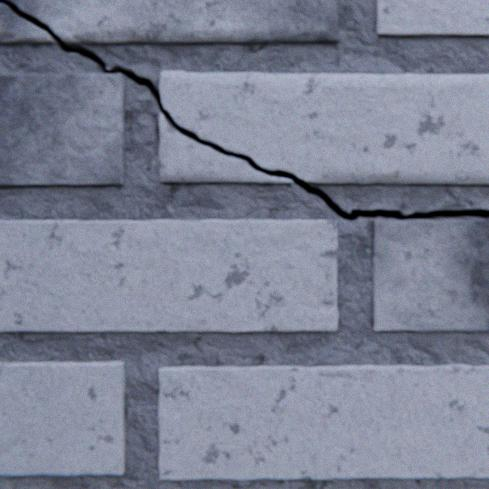brick: (0, 219, 338, 331), (159, 364, 488, 479), (0, 360, 126, 474), (0, 74, 126, 186), (372, 219, 488, 330), (376, 0, 488, 37)
broken_brick: (160, 71, 488, 183), (6, 0, 338, 43), (160, 114, 292, 182), (0, 5, 55, 44)
crack: (0, 0, 488, 221)
